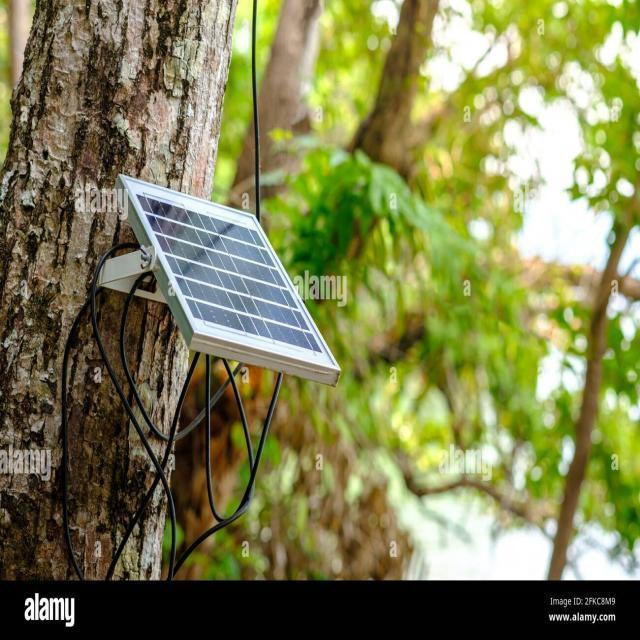Normal Solar Panel: (126, 187, 346, 368)
